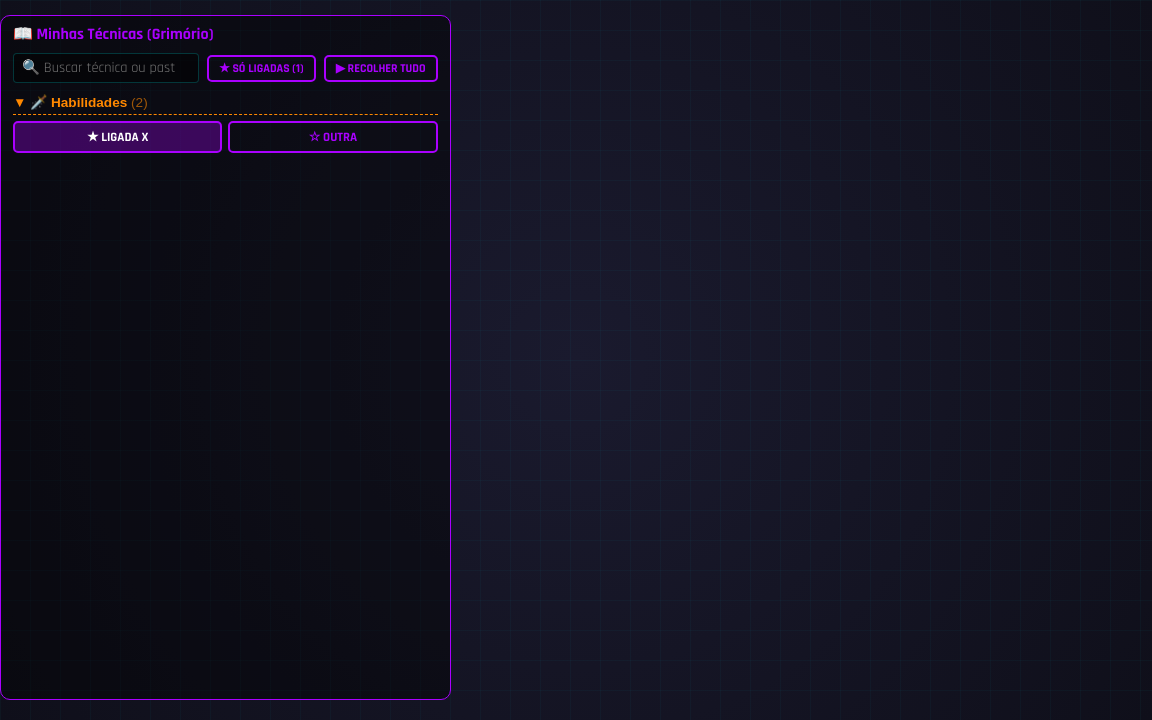
Test: MapaTecnicasRapidas - busca › tecnica ligada que nao casa com a busca NAO aparece (nao ha mais faixa duplicada)
The width and height of the screenshot is (1152, 720).
Type "outra" into the search field labelled "Buscar técnica" at (106, 68), box [13,53,199,83]
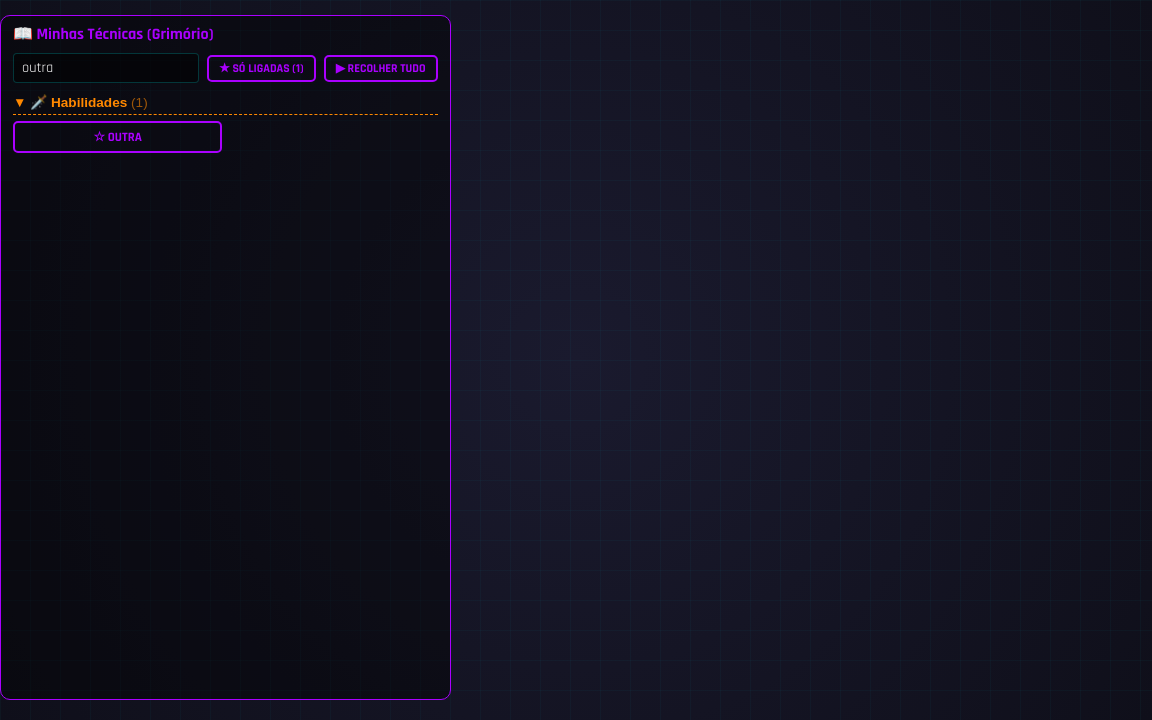
Now the text "Ligada X" is gone
